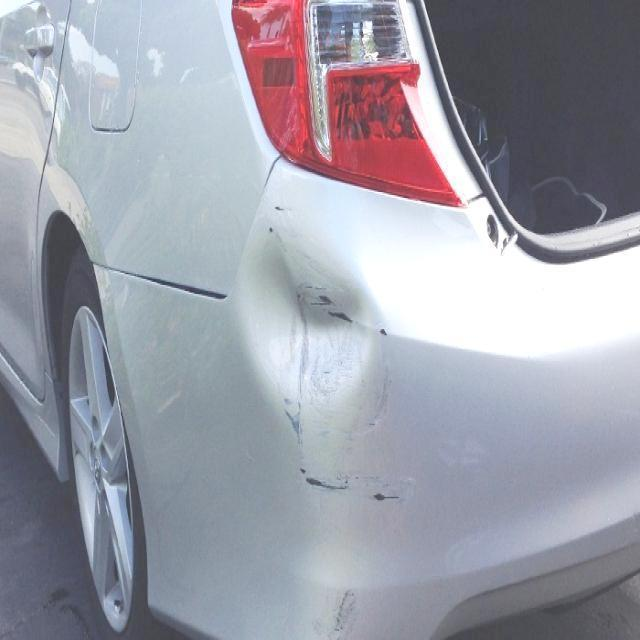minor: (295, 463, 411, 526), (315, 587, 363, 640)
moderate: (231, 183, 402, 479)
